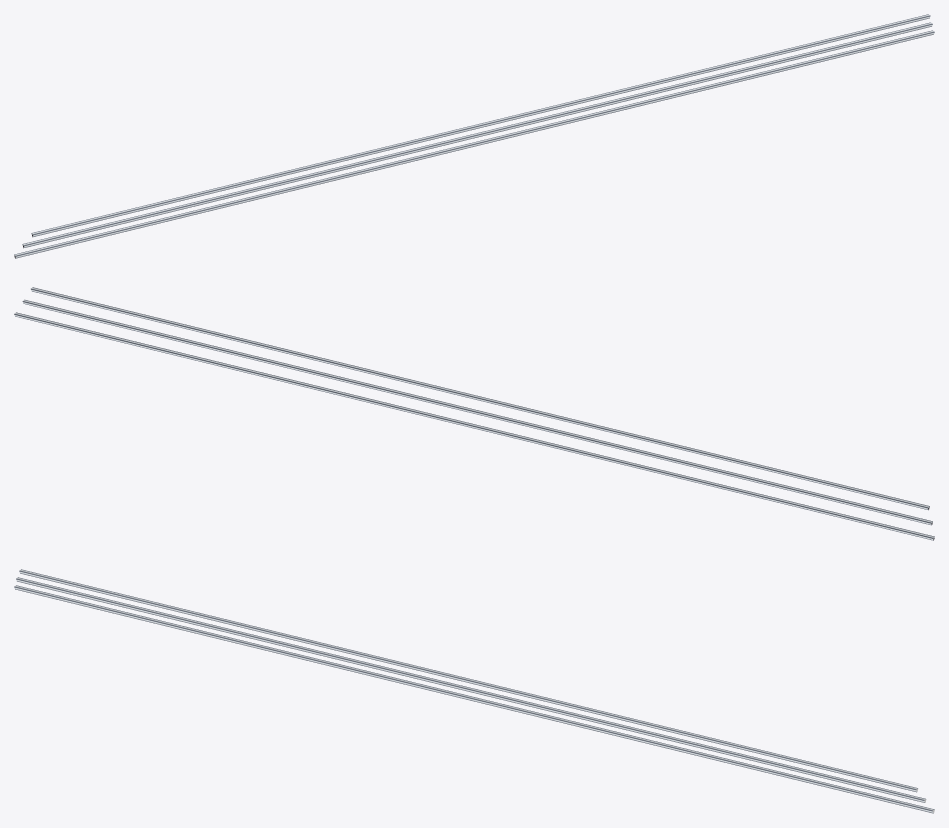
Rendered from BabWire01.glb.
3 views of the same model, one above another, from view 1: azimuth 30°, elevation 25°; view 2: azimuth 150°, elevation 25°; view 3: azimuth 330°, elevation 25° (orthographic).
Parts seen in each view (by area): view 1: BabWire01; view 2: BabWire01; view 3: BabWire01.
Boxes of the visible parts, x1=… form: BabWire01: x1=14, y1=14, x2=934, y2=258; BabWire01: x1=14, y1=287, x2=934, y2=540; BabWire01: x1=14, y1=569, x2=934, y2=813.
Bounding box in the file's own units: 12880 × 356 × 204.
2 materials, 1 textured.
